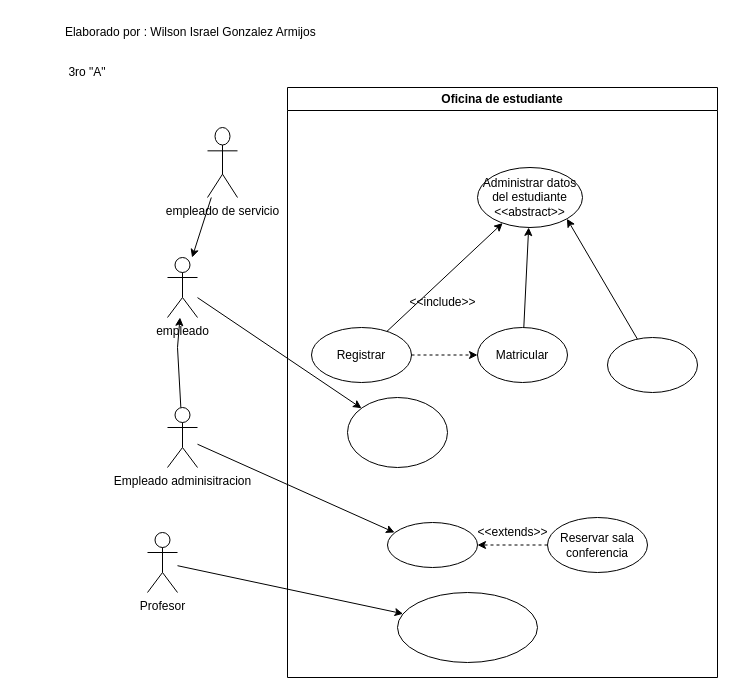
Some shapes in this 735 by 695 pixel diagram are drawn without their labels. Here are the shapes that lost their labels. From the top down, the centre of each, then its label:
At (x=652, y=364): "Retirar".
At (x=397, y=432): "Emite informacion estudiante".
At (x=432, y=545): "Crea Curso".
At (x=467, y=627): "Enviar infomacion calificaciones".
